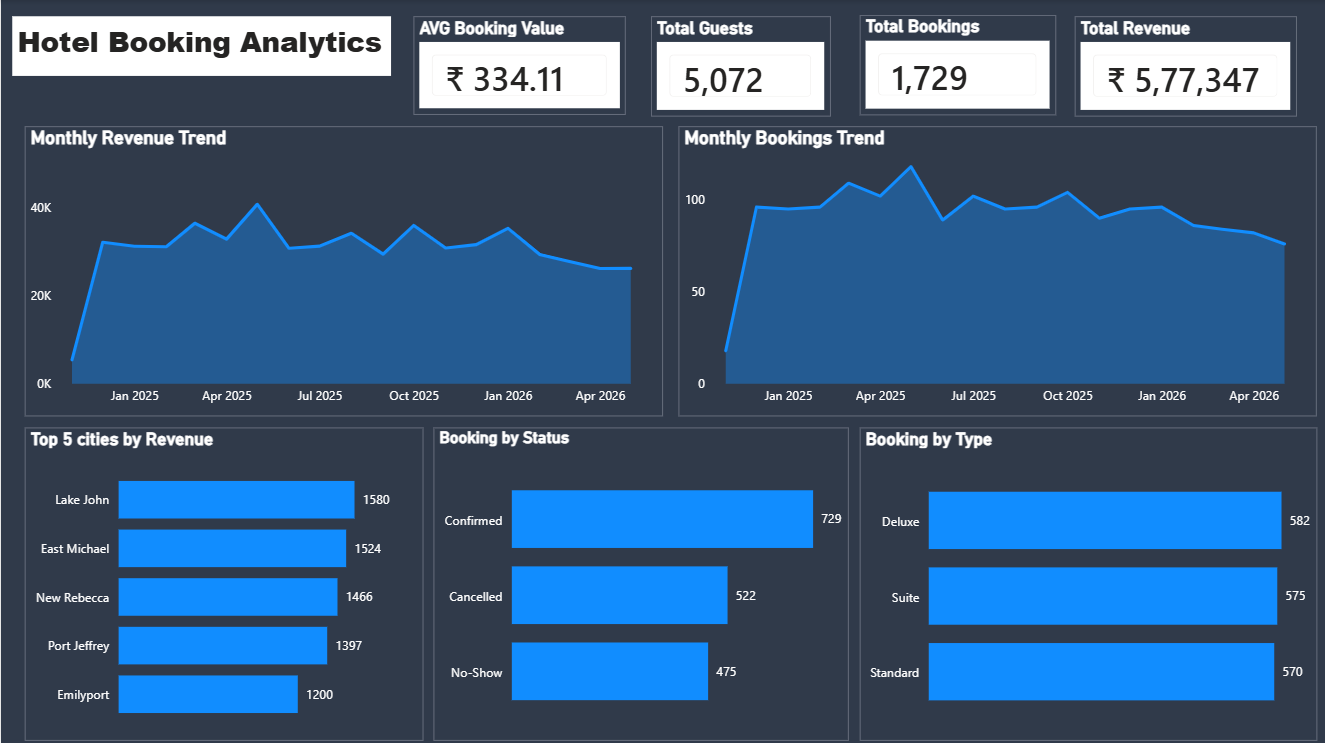

Layout of this report page (visuals, bound fields, positions):
{"tool":"powerbi","page":{"name":"Page 1","canvas":[1280,720],"ordinal":0},"visuals":[{"type":"areaChart","title":"Monthly Revenue Trend","fields":{"Category":["DATE_REVENUE.DATE.Variation.Date Hierarchy.Year","DATE_REVENUE.DATE.Variation.Date Hierarchy.Month"],"Y":["Sum(DATE_REVENUE.TOTAL_REVENUE)"]},"box":[23.2,122.3,616.3,280],"z":0},{"type":"areaChart","title":"Monthly Bookings Trend","fields":{"Category":["DATE_BOOKING.DATE.Variation.Date Hierarchy.Year","DATE_BOOKING.DATE.Variation.Date Hierarchy.Month"],"Y":["Sum(DATE_BOOKING.TOTAL_BOOKING)"]},"box":[654.2,122.3,616.3,280],"z":1000},{"type":"barChart","title":"Top 5 cities by Revenue","fields":{"Category":["CITY_REVENUE.HOTEL_CITY"],"Y":["Sum(CITY_REVENUE.TOTAL_REVENUE)"]},"box":[23.2,412.1,385.2,302],"z":2000},{"type":"barChart","title":"Booking by Status","fields":{"Category":["BOOKING_STATUS.BOOKING_STATUS"],"Y":["Sum(BOOKING_STATUS.TOTAL_BOOKINGS)"]},"box":[417,412.1,401.1,302],"z":3000},{"type":"barChart","title":"Booking by Type","fields":{"Category":["ROOM_TYPE.ROOM_TYPE"],"Y":["Sum(ROOM_TYPE.TOTAL_BOOKINGS)"]},"box":[829.1,412.1,441.4,302],"z":4000},{"type":"cardVisual","title":"Total Revenue","fields":{"Data":["Sum(TOTAL_REVENUE.TOTAL_REVENUE)"]},"box":[1036.3,15.7,214.7,96.5],"z":5000},{"type":"cardVisual","title":"Total Bookings","fields":{"Data":["Sum(TOTAL_BOOKINGS.TOTAL_BOOKINGS)"]},"box":[828.8,14.5,189.4,96.5],"z":6000},{"type":"cardVisual","title":"Total Guests","fields":{"Data":["Sum(GUESTS.TOTAL_GUESTS)"]},"box":[627.3,15.7,173.7,96.5],"z":7000},{"type":"cardVisual","title":"AVG Booking Value","fields":{"Data":["Sum(AVG_BOOKING_VALUE.SVG_BOOKING_VALUE)"]},"box":[398.1,15.7,205.1,95.3],"z":8000},{"type":"textbox","box":[10.9,15.7,365.6,57.9],"z":9000}]}

Visuals, with their boxes in screenshot pixels (x1, y1, x2, y2), scaled from the page's 1280x720 canvas onto the 1325x743 screenshot:
"Monthly Revenue Trend" areaChart: Rect(24, 126, 662, 415)
"Monthly Bookings Trend" areaChart: Rect(677, 126, 1315, 415)
"Top 5 cities by Revenue" barChart: Rect(24, 425, 423, 737)
"Booking by Status" barChart: Rect(432, 425, 847, 737)
"Booking by Type" barChart: Rect(858, 425, 1315, 737)
"Total Revenue" cardVisual: Rect(1073, 16, 1295, 116)
"Total Bookings" cardVisual: Rect(858, 15, 1054, 115)
"Total Guests" cardVisual: Rect(649, 16, 829, 116)
"AVG Booking Value" cardVisual: Rect(412, 16, 624, 115)
textbox: Rect(11, 16, 390, 76)
